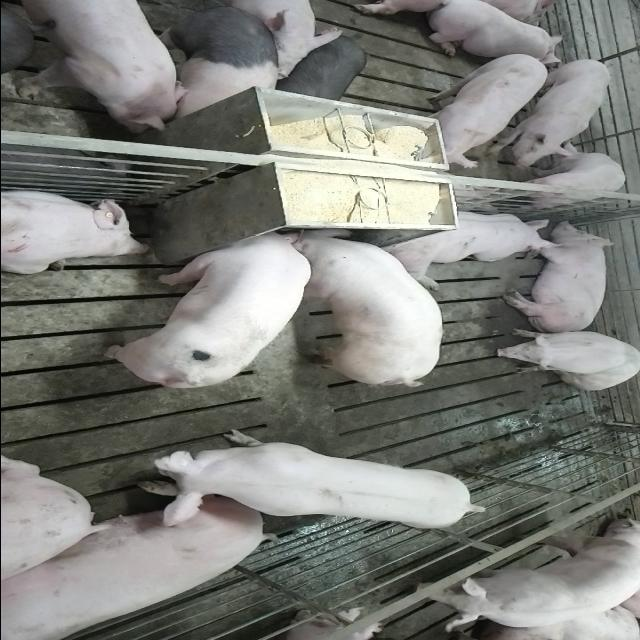Feeding: (100, 222, 312, 386), (284, 230, 445, 392)
Lateral_lying: (499, 220, 617, 334)
Sitting: (492, 329, 640, 390)
Standing: (130, 428, 490, 532), (413, 525, 640, 640), (1, 1, 190, 134), (147, 3, 281, 125), (414, 51, 550, 168), (481, 56, 613, 168), (506, 152, 628, 208)
Sternal_lying: (382, 207, 557, 283), (0, 186, 149, 274), (423, 4, 568, 62)
